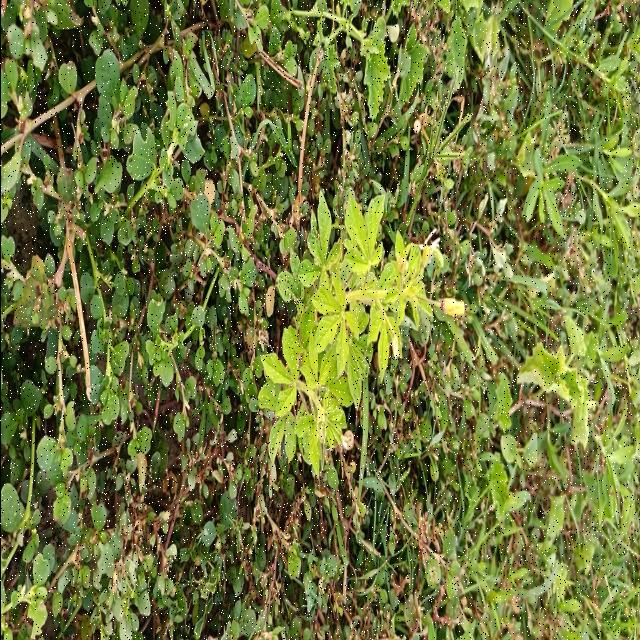plant: (258, 194, 461, 474)
